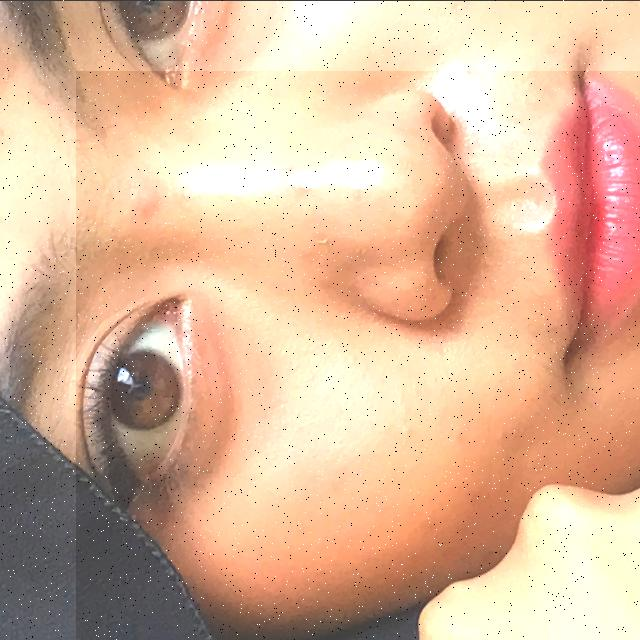telpon: (76, 70, 640, 640)
